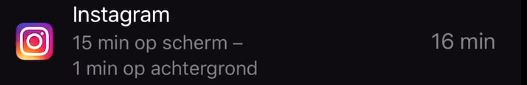name: (63, 3, 178, 28)
time: (72, 28, 133, 55), (71, 57, 120, 82)
